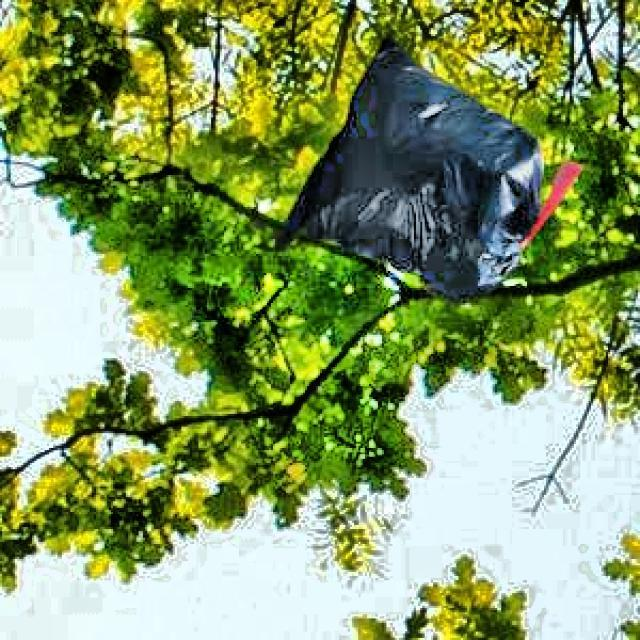Trashbag: (274, 29, 555, 302)
